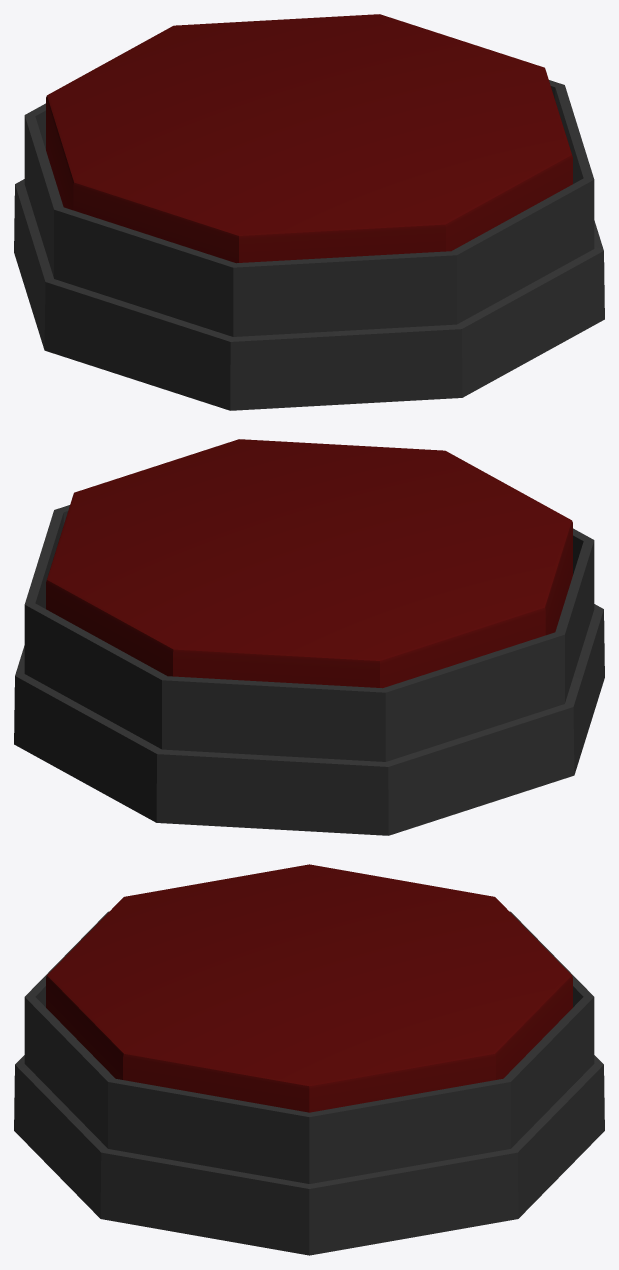
Rendered from Button_straight.fbx.
3 renders of one model, top to bottom at view 1: azimuth 30°, elevation 25°; view 2: azimuth 150°, elevation 25°; view 3: azimuth 270°, elevation 25°, orthographic. The views are drawn at different scales.
Parts seen in each view (by area): view 1: Circle_straight; view 2: Circle_straight; view 3: Circle_straight.
Part boxes in pixels (x1,y1,x2,y2): Circle_straight: [14, 14, 604, 410]; Circle_straight: [14, 439, 604, 835]; Circle_straight: [14, 864, 604, 1255].
Size of the model in its own units: 4.72 by 1.38 by 4.72.
